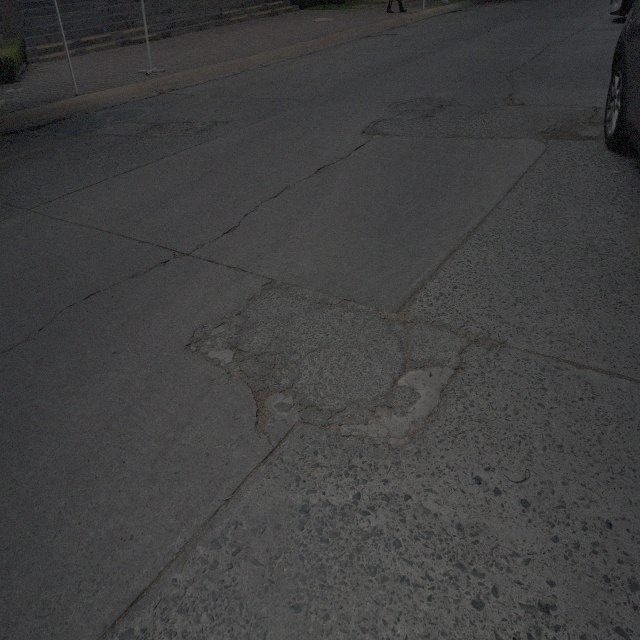pothole: (248, 384, 276, 440), (381, 288, 421, 324), (226, 348, 247, 384), (187, 326, 213, 355), (368, 399, 394, 423), (172, 248, 188, 260)
